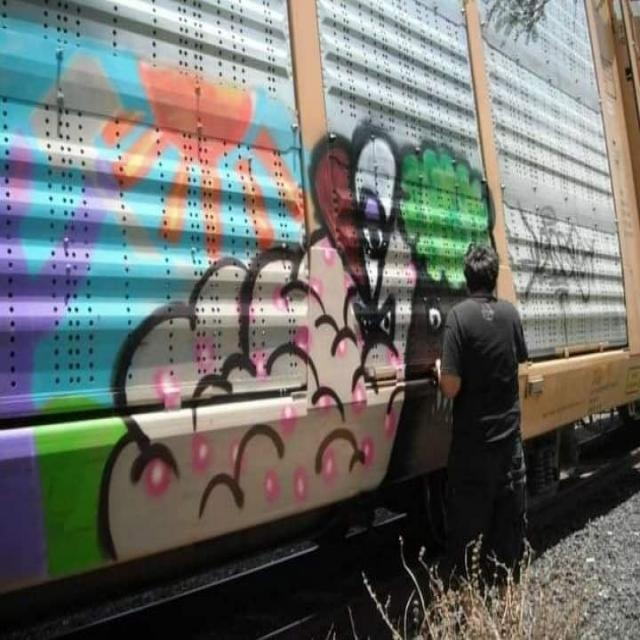-: (102, 160, 494, 562), (516, 199, 594, 309)
